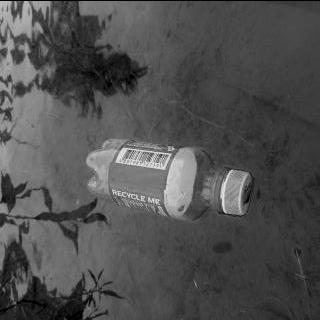bottle: (86, 137, 253, 220)
